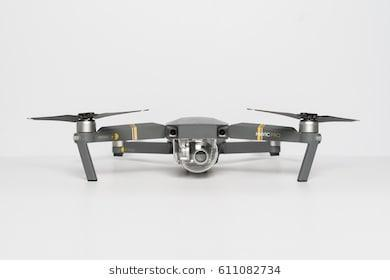drone: (25, 83, 360, 194)
